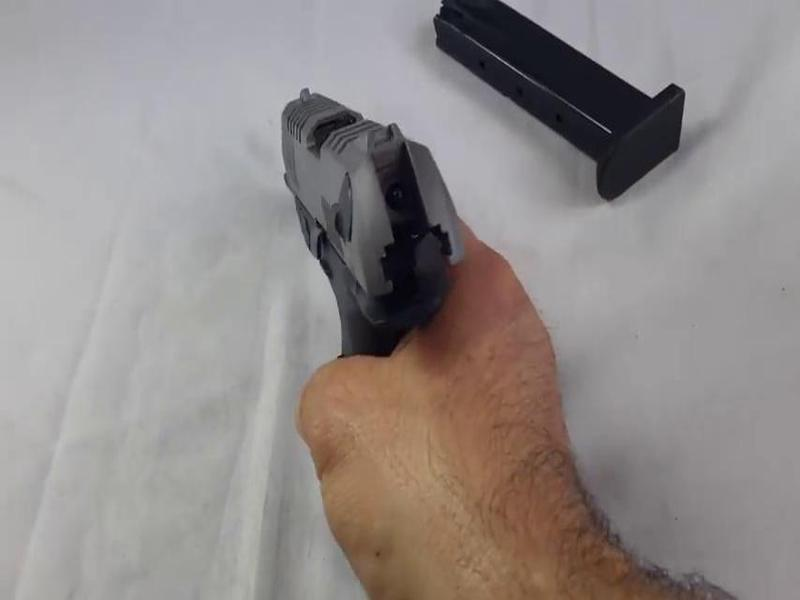Pistola: (254, 52, 503, 394)
